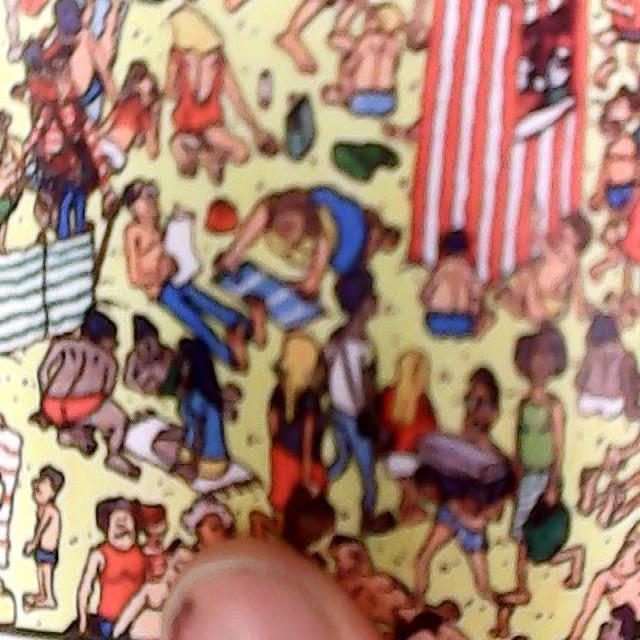waldo: (36, 36, 83, 100)
